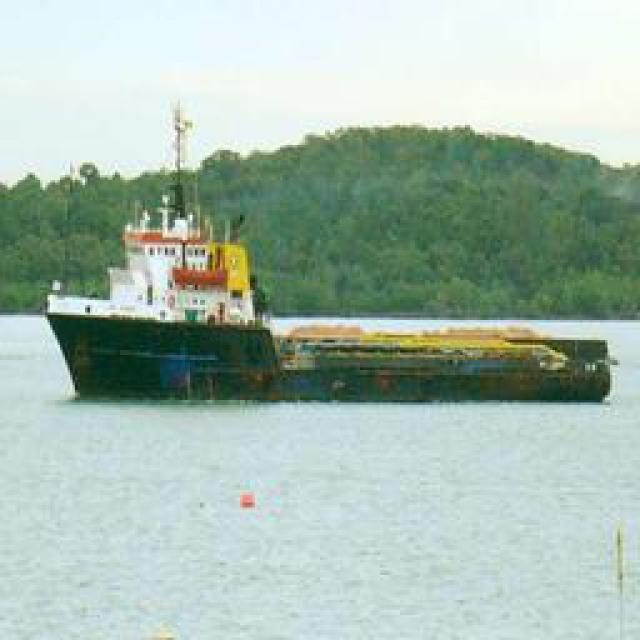Ship: (47, 207, 617, 416)
